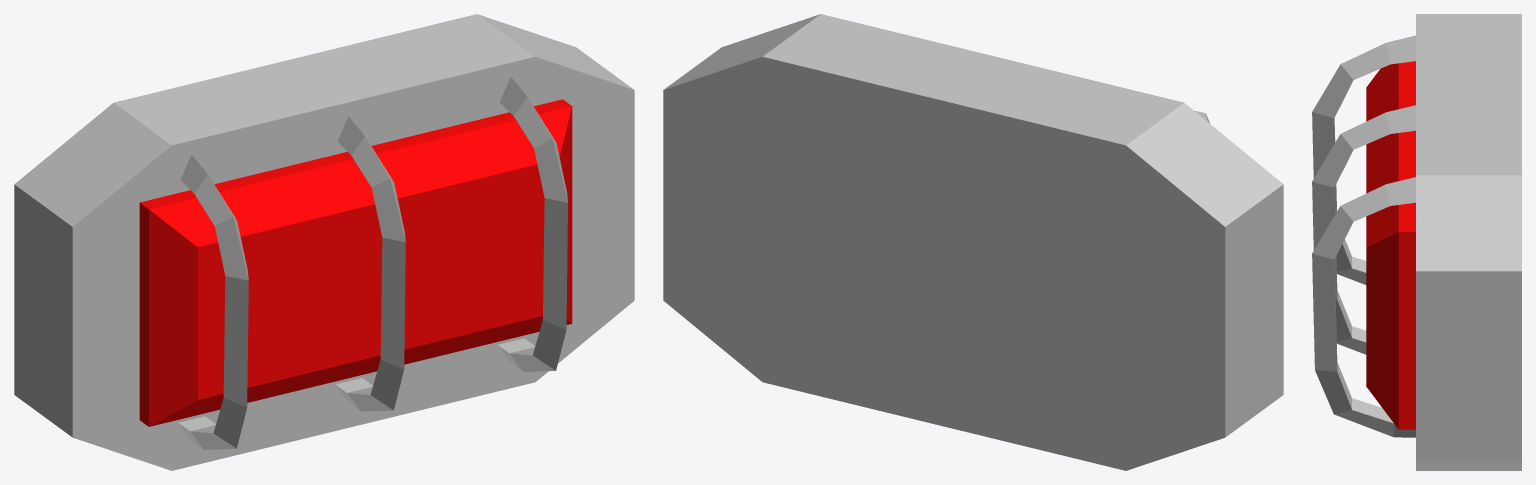
The model's file is ShortGatedEmergencyLight.obj.
3 renders of one model, left to right at view 1: azimuth 30°, elevation 25°; view 2: azimuth 150°, elevation 25°; view 3: azimuth 270°, elevation 25°, orthographic. The views are drawn at different scales.
Parts seen in each view (by area): view 1: Cube.005_Cube.006; view 2: Cube.005_Cube.006; view 3: Cube.005_Cube.006.
Boxes of the visible parts, x1=… form: Cube.005_Cube.006: x1=14, y1=14, x2=634, y2=470; Cube.005_Cube.006: x1=663, y1=14, x2=1283, y2=470; Cube.005_Cube.006: x1=1312, y1=14, x2=1521, y2=470.
Bounding box in the file's own units: 0.8169 × 0.4523 × 0.2909.
